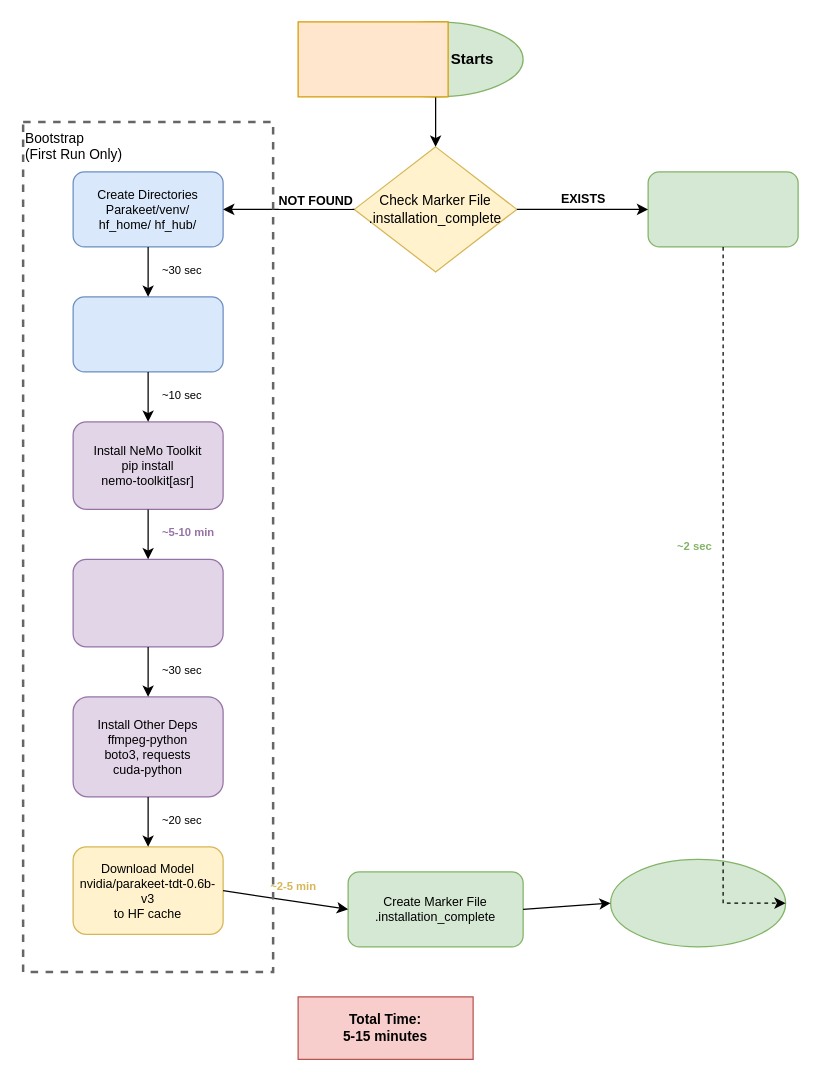
Image size: 820x1081. Some labels were removed from this diagram. The shapes that lost their labels are listed below. From the top down, each one's centre as x and y in pixels, then its label:
At (372,59): "Logs written to: /runpod-volume/Parakeet/ bootstrap.log".
At (722,209): "Skip Bootstrap Start Handler".
At (147,334): "Create Virtual Env python3.11 -m venv".
At (147,602): "Install HuggingFace Hub pip install huggingface_hub".
At (697,902): "Bootstrap Complete Start Handler".
